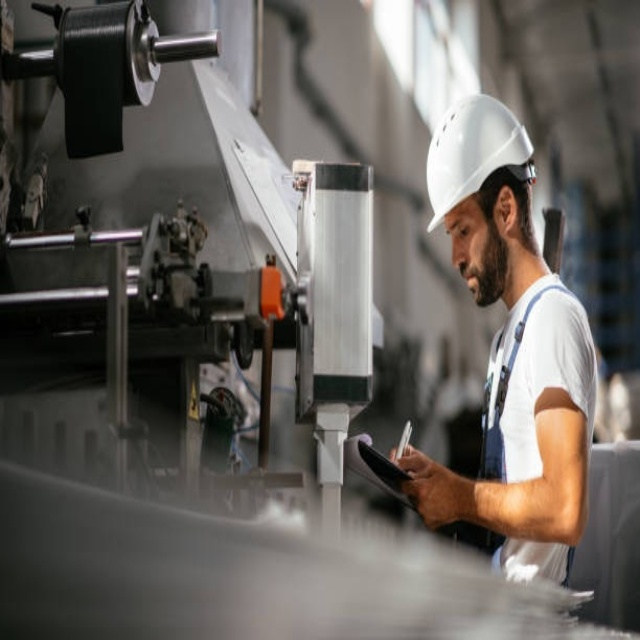Sin_gafas: (444, 207, 479, 238)
Sin_guantes: (399, 445, 462, 527)
Sin_mascara: (460, 267, 486, 298)
